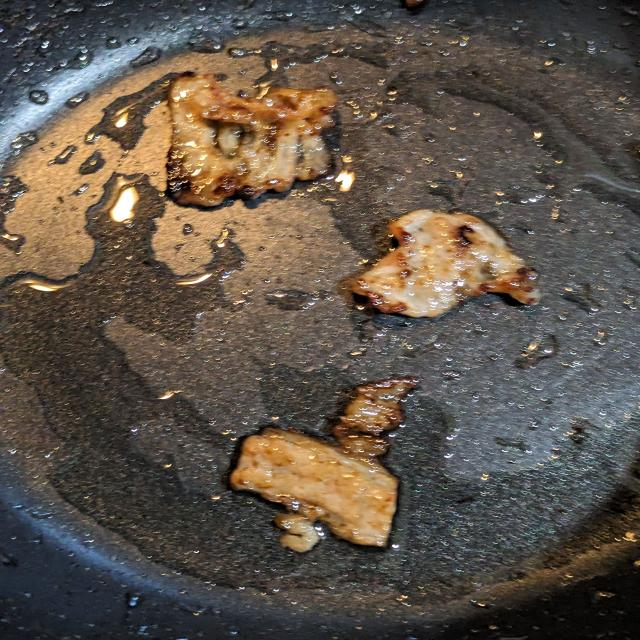OK cooked pork,: (221, 371, 427, 565), (339, 181, 551, 334), (160, 71, 349, 220)
